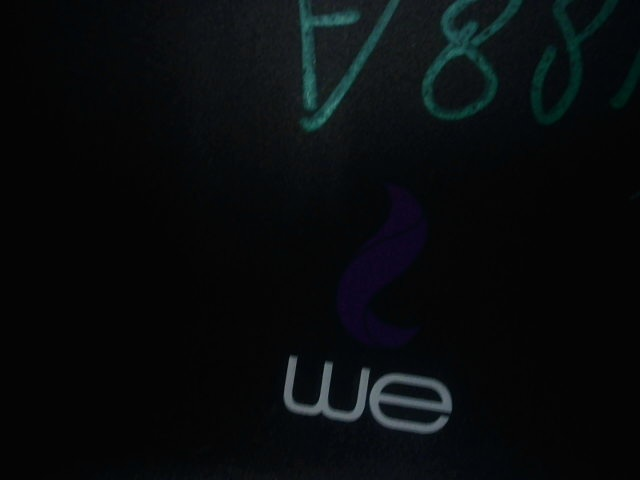AT_We: (263, 167, 456, 434)
